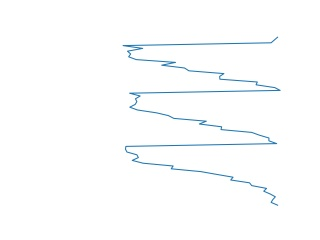distributaryMouthBar: (119, 35, 283, 210)
